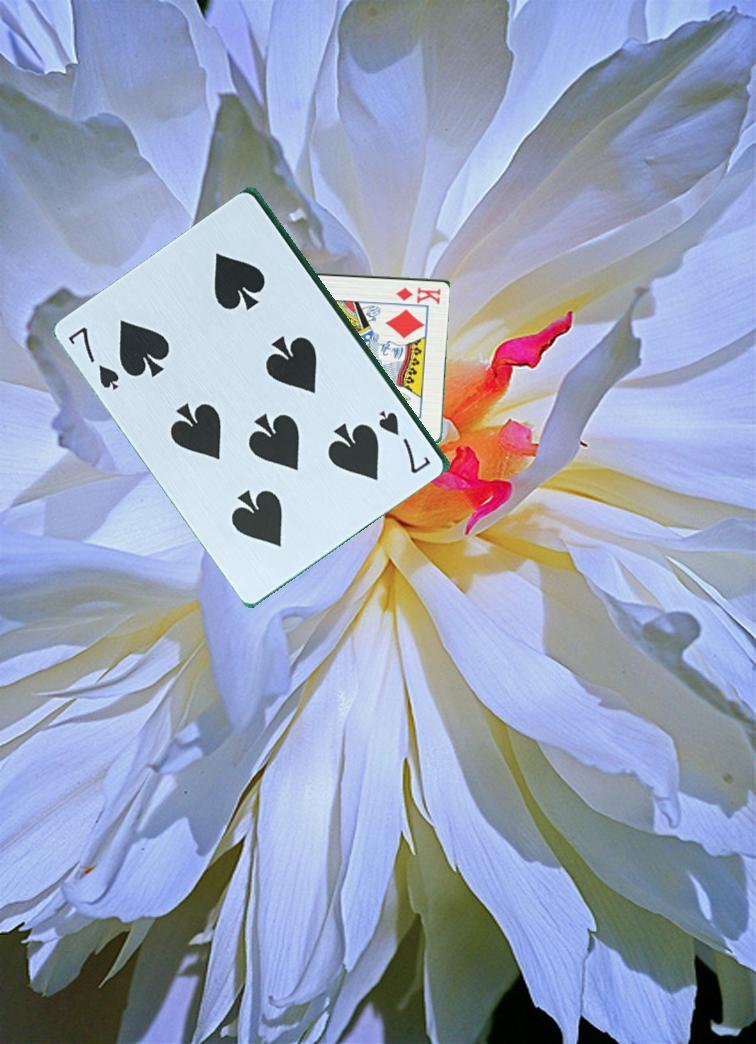7s: (374, 406, 433, 476), (64, 322, 122, 393)
kd: (393, 283, 443, 304)
